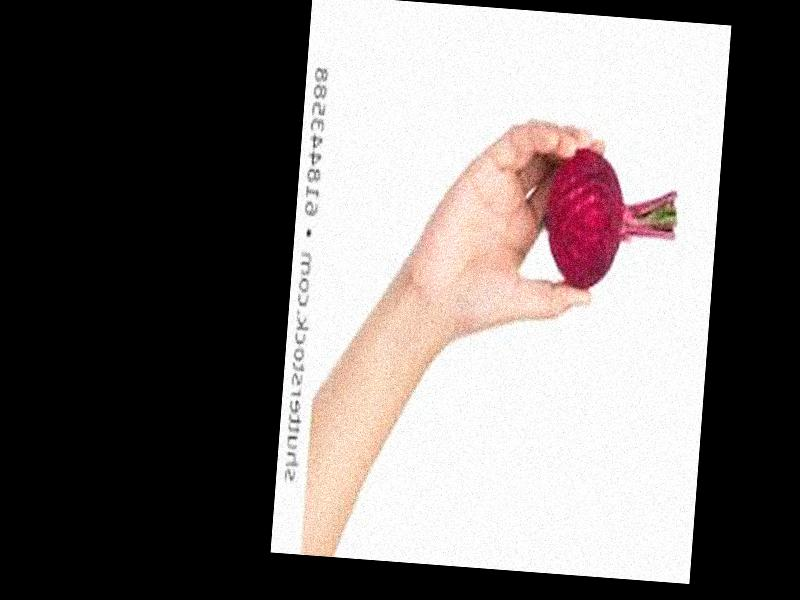Beet: (540, 143, 682, 294)
